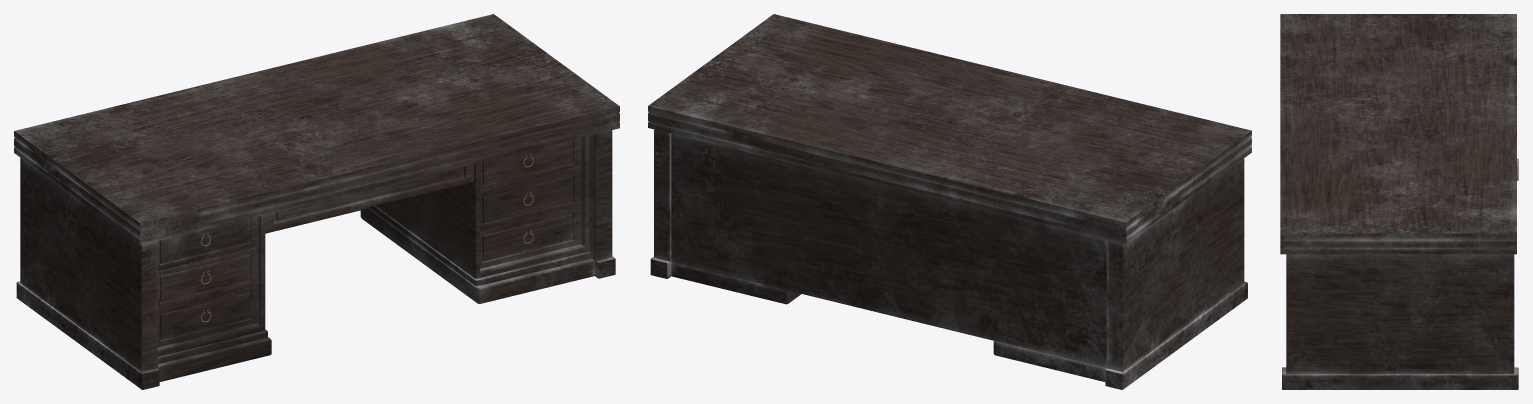
The model's file is M_PrincipalDesk.fbx.
3 renders of one model, left to right at view 1: azimuth 30°, elevation 25°; view 2: azimuth 150°, elevation 25°; view 3: azimuth 270°, elevation 25°, orthographic. The views are drawn at different scales.
Parts seen in each view (by area): view 1: principlesdesk_GEO, drawer5_GEO, drawe2_GEO, drawer6_GEO, drawer3_GEO, drawer4_GEO, drawer1_GEO; view 2: principlesdesk_GEO; view 3: principlesdesk_GEO.
Boxes of the visible parts, <box> form: principlesdesk_GEO: <box>14,14,619,389</box>; drawer5_GEO: <box>480,168,580,230</box>; drawe2_GEO: <box>158,247,257,309</box>; drawer6_GEO: <box>480,206,580,268</box>; drawer3_GEO: <box>158,285,257,347</box>; drawer4_GEO: <box>480,138,580,192</box>; drawer1_GEO: <box>158,217,257,271</box>; principlesdesk_GEO: <box>648,14,1251,389</box>; principlesdesk_GEO: <box>1280,14,1518,389</box>.
Size of the model in its own units: 162 by 54.63 by 74.43.
Materials: 1 (1 with a texture image).
